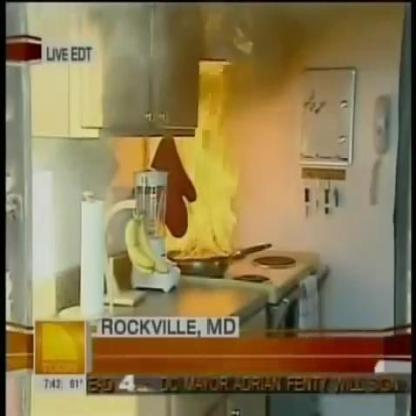fire: (144, 62, 244, 259)
